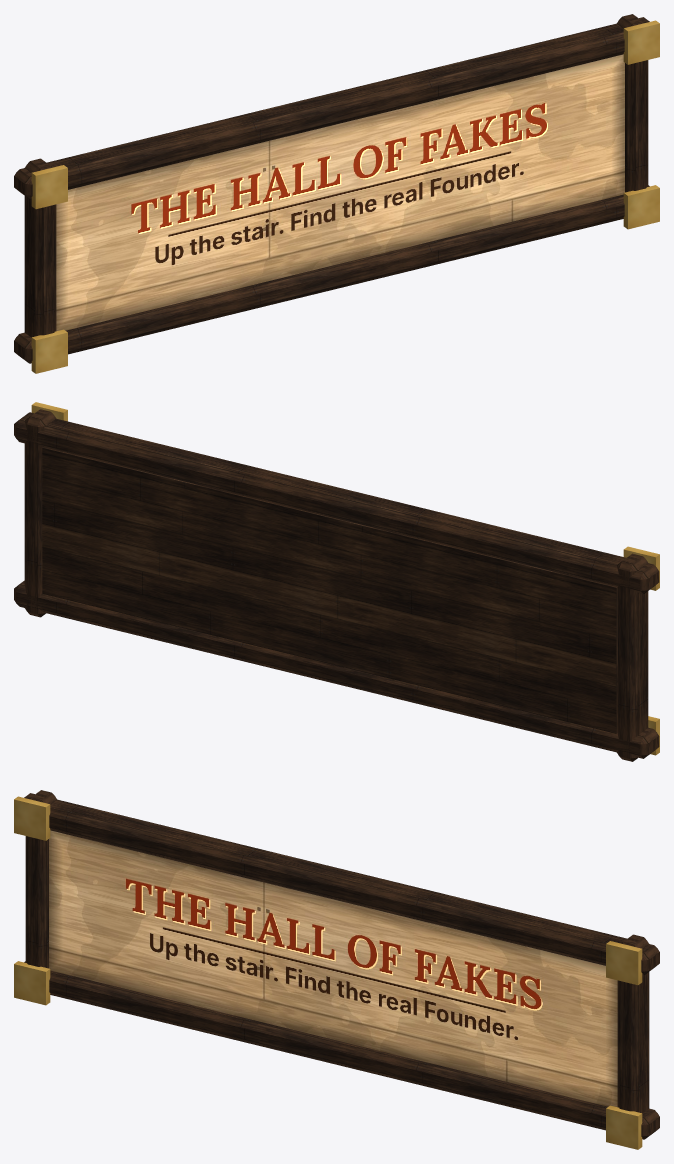
The model's file is sg_hall_door.glb.
3 views of the same model, one above another, from view 1: azimuth 30°, elevation 25°; view 2: azimuth 150°, elevation 25°; view 3: azimuth 330°, elevation 25° (orthographic).
Parts seen in each view (by area): view 1: spire; view 2: spire; view 3: spire.
Part boxes in pixels (box(x1,y1,x2,y2)): spire: box(14, 14, 659, 373); spire: box(14, 402, 659, 761); spire: box(14, 790, 659, 1149).
Bounding box in the file's own units: 3.56 × 1.06 × 0.19.
3 materials, 3 textured.
